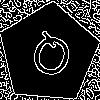Q: (23, 28, 77, 89)
